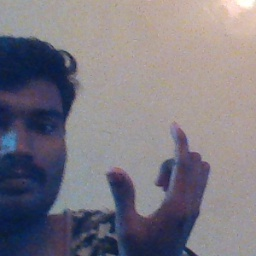U: (102, 121, 217, 248)
